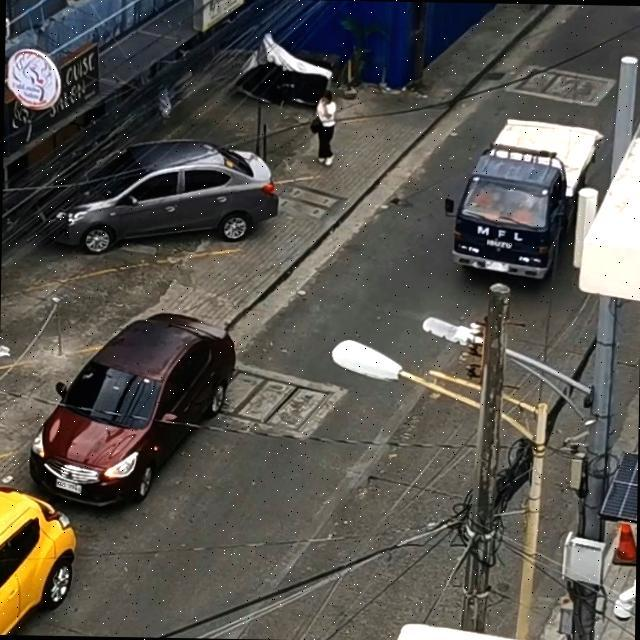Truck: (446, 118, 598, 282)
